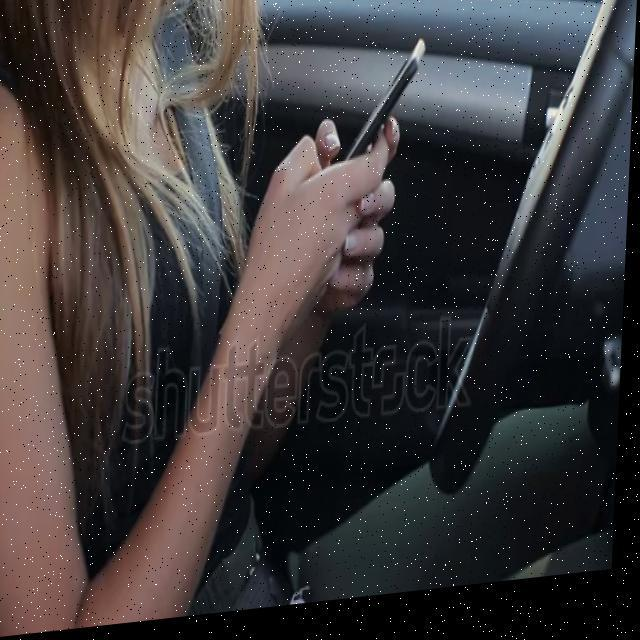PhoneCall: (344, 46, 428, 199)
